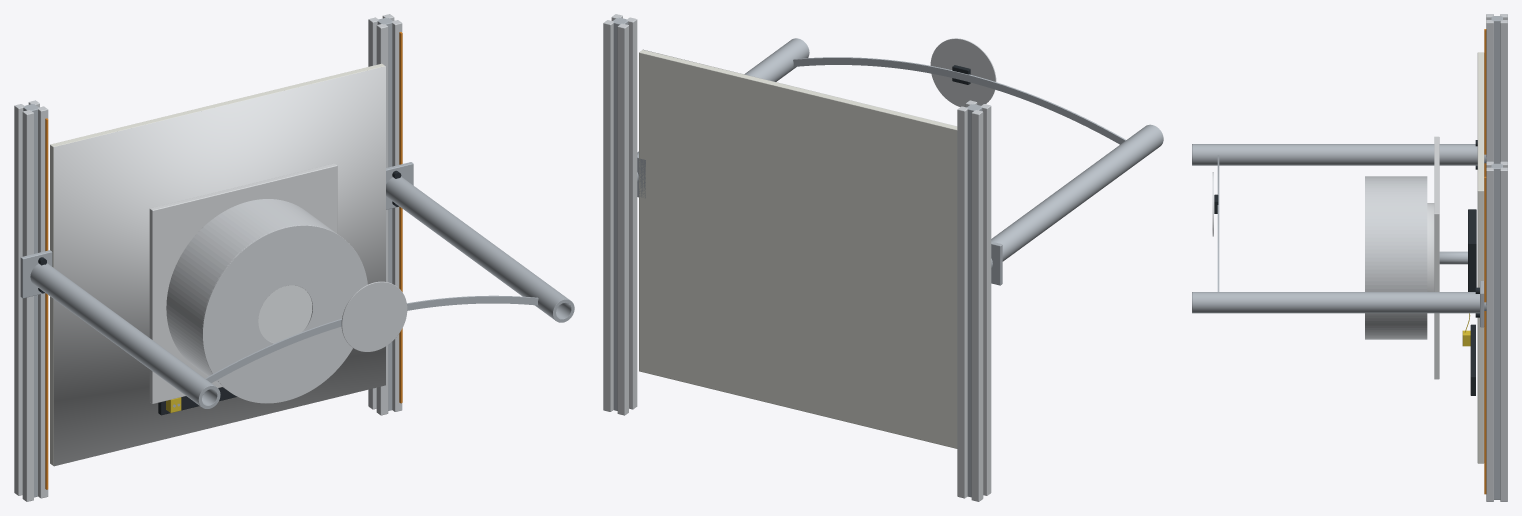
The model's file is apparatus_cooler_white.glb.
3 renders of one model, left to right at view 1: azimuth 30°, elevation 25°; view 2: azimuth 150°, elevation 25°; view 3: azimuth 270°, elevation 25°, orthographic. The views are drawn at different scales.
Parts seen in each view (by area): view 1: COOLER_WHITE__mylar_base, COOLER_WHITE__aperture_plate, COOLER_WHITE__lift_plate, COOLER_WHITE__radiation_shield, COOLER_WHITE__upright_-0.1625, COOLER_WHITE__upright_0.1625, COOLER_WHITE__rail_-0.1625_flange_-1_1, COOLER_WHITE__solar_reflector, COOLER_WHITE__rail_-0.1625_flange_-1_-1, COOLER_WHITE__rail_-0.1625_flange_1_1, COOLER_WHITE__acrylic_base, COOLER_WHITE__rail_0.1625_flange_1_1 (+9 smaller); view 2: COOLER_WHITE__acrylic_base, COOLER_WHITE__upright_-0.1625, COOLER_WHITE__rail_-0.1625_flange_-1_-1, COOLER_WHITE__rail_0.1625_flange_-1_-1, COOLER_WHITE__rail_-0.1625_flange_1_-1, COOLER_WHITE__rail_0.1625_flange_1_-1, COOLER_WHITE__rail_0.1625_flange_-1_1, COOLER_WHITE__rail_-0.1625_flange_-1_1, COOLER_WHITE__solar_reflector, COOLER_WHITE__reflector_track, COOLER_WHITE__rail_-0.1625_core, COOLER_WHITE__rail_0.1625_core (+1 smaller); view 3: COOLER_WHITE__radiation_shield, COOLER_WHITE__upright_0.1625, COOLER_WHITE__upright_-0.1625, COOLER_WHITE__acrylic_base, COOLER_WHITE__rail_0.1625_flange_1_-1, COOLER_WHITE__rail_0.1625_flange_1_1, COOLER_WHITE__rail_0.1625_core, COOLER_WHITE__lift_plate, COOLER_WHITE__rail_-0.1625_flange_1_1, COOLER_WHITE__rail_-0.1625_flange_1_-1, COOLER_WHITE__rail_-0.1625_core, COOLER_WHITE__orange_insert_0.1625 (+6 smaller).
Boxes of the visible parts, x1,y1,x2,y2 form: COOLER_WHITE__mylar_base: (53,66,385,466); COOLER_WHITE__aperture_plate: (202,225,367,403); COOLER_WHITE__lift_plate: (149,163,337,403); COOLER_WHITE__radiation_shield: (166,199,336,388); COOLER_WHITE__upright_-0.1625: (30,263,220,409); COOLER_WHITE__upright_0.1625: (386,177,574,322); COOLER_WHITE__rail_-0.1625_flange_-1_1: (22,110,33,501); COOLER_WHITE__solar_reflector: (341,281,407,351); COOLER_WHITE__rail_-0.1625_flange_-1_-1: (14,104,24,495); COOLER_WHITE__rail_-0.1625_flange_1_1: (38,106,48,498); COOLER_WHITE__acrylic_base: (50,63,384,465); COOLER_WHITE__rail_0.1625_flange_1_1: (392,20,402,411); COOLER_WHITE__acrylic_base: (639,50,957,448); COOLER_WHITE__upright_-0.1625: (991,124,1163,268); COOLER_WHITE__rail_-0.1625_flange_-1_-1: (971,110,983,501); COOLER_WHITE__rail_0.1625_flange_-1_-1: (617,23,628,415); COOLER_WHITE__rail_-0.1625_flange_1_-1: (957,106,967,498); COOLER_WHITE__rail_0.1625_flange_1_-1: (603,20,613,411); COOLER_WHITE__rail_0.1625_flange_-1_1: (626,17,637,409); COOLER_WHITE__rail_-0.1625_flange_-1_1: (981,104,991,495); COOLER_WHITE__solar_reflector: (930,38,996,106); COOLER_WHITE__reflector_track: (793,57,1125,144); COOLER_WHITE__rail_-0.1625_core: (967,104,982,497); COOLER_WHITE__rail_0.1625_core: (613,17,628,410); COOLER_WHITE__radiation_shield: (1366,176,1427,339); COOLER_WHITE__upright_0.1625: (1192,292,1486,313); COOLER_WHITE__upright_-0.1625: (1192,144,1486,165); COOLER_WHITE__acrylic_base: (1477,52,1484,463); COOLER_WHITE__rail_0.1625_flange_1_-1: (1500,167,1507,501); COOLER_WHITE__rail_0.1625_flange_1_1: (1486,167,1493,501); COOLER_WHITE__rail_0.1625_core: (1491,163,1502,499); COOLER_WHITE__lift_plate: (1434,136,1439,379); COOLER_WHITE__rail_-0.1625_flange_1_1: (1486,20,1493,161); COOLER_WHITE__rail_-0.1625_flange_1_-1: (1500,20,1507,161); COOLER_WHITE__rail_-0.1625_core: (1491,16,1502,163); COOLER_WHITE__orange_insert_0.1625: (1484,176,1486,494).
Bounding box in the file's own units: 0.359 × 0.34 × 0.2935.
